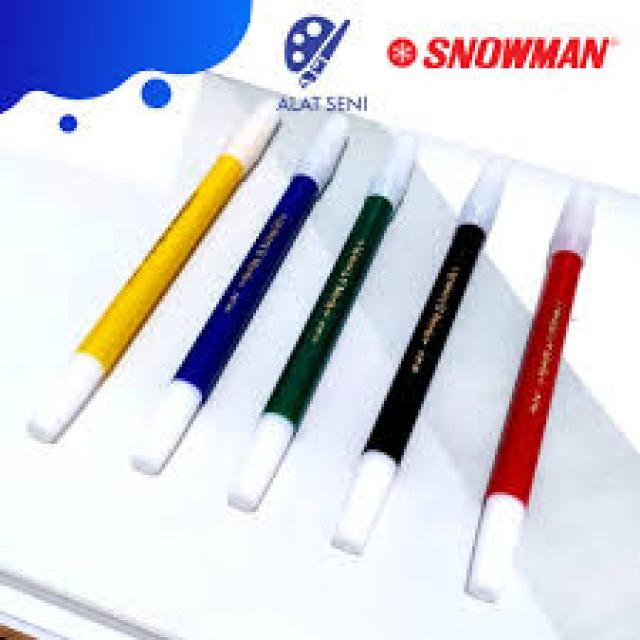marker: (33, 89, 293, 438), (332, 161, 516, 549)
